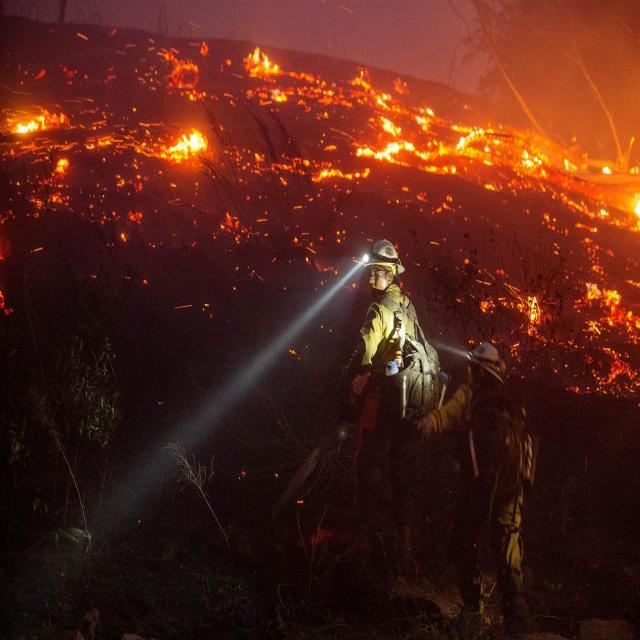Fire: (584, 280, 640, 336), (242, 34, 284, 89), (359, 131, 405, 171), (3, 115, 60, 139), (168, 127, 212, 158), (451, 125, 498, 148), (315, 166, 348, 187), (414, 100, 434, 130), (265, 89, 296, 108), (526, 298, 546, 326), (369, 88, 392, 112), (558, 152, 578, 178), (377, 112, 397, 136), (524, 149, 542, 172), (52, 157, 70, 176), (600, 164, 616, 182), (634, 193, 640, 225)
